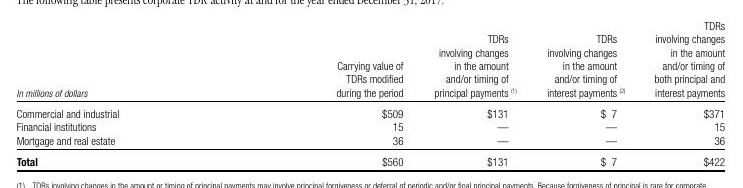table: (0, 0, 743, 188)
